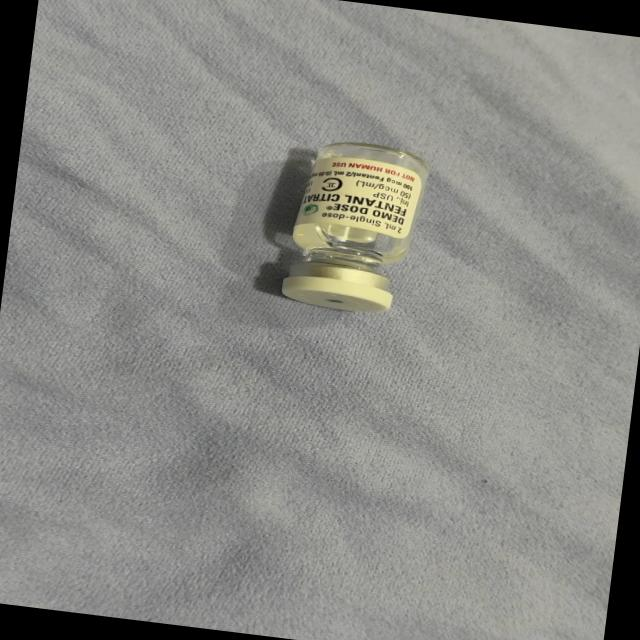fentanl_citrat: (277, 138, 428, 315)
